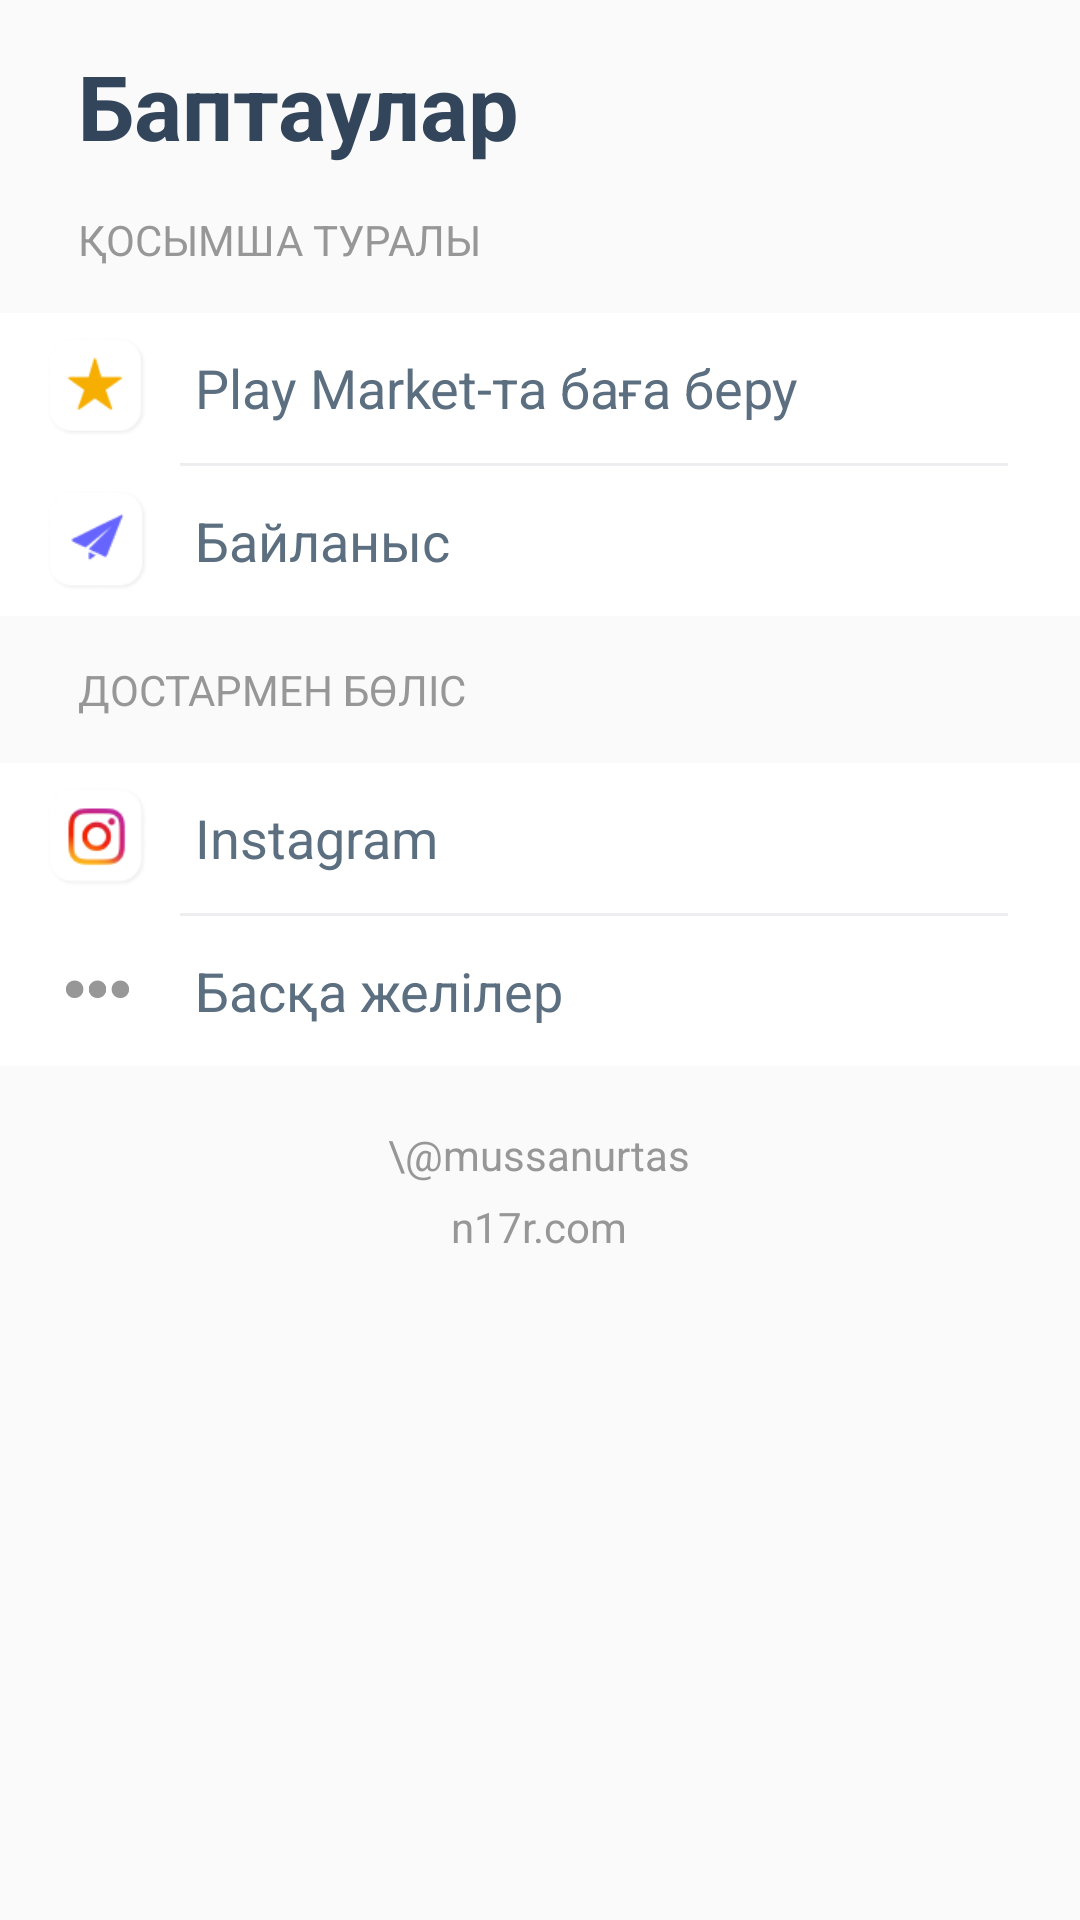

Icons on this 1080*1920 Android screen, each with its box as (x1, y1, x2, y2):
contactus: (71, 514, 123, 560)
more: (66, 980, 129, 998)
rating: (67, 357, 123, 410)
